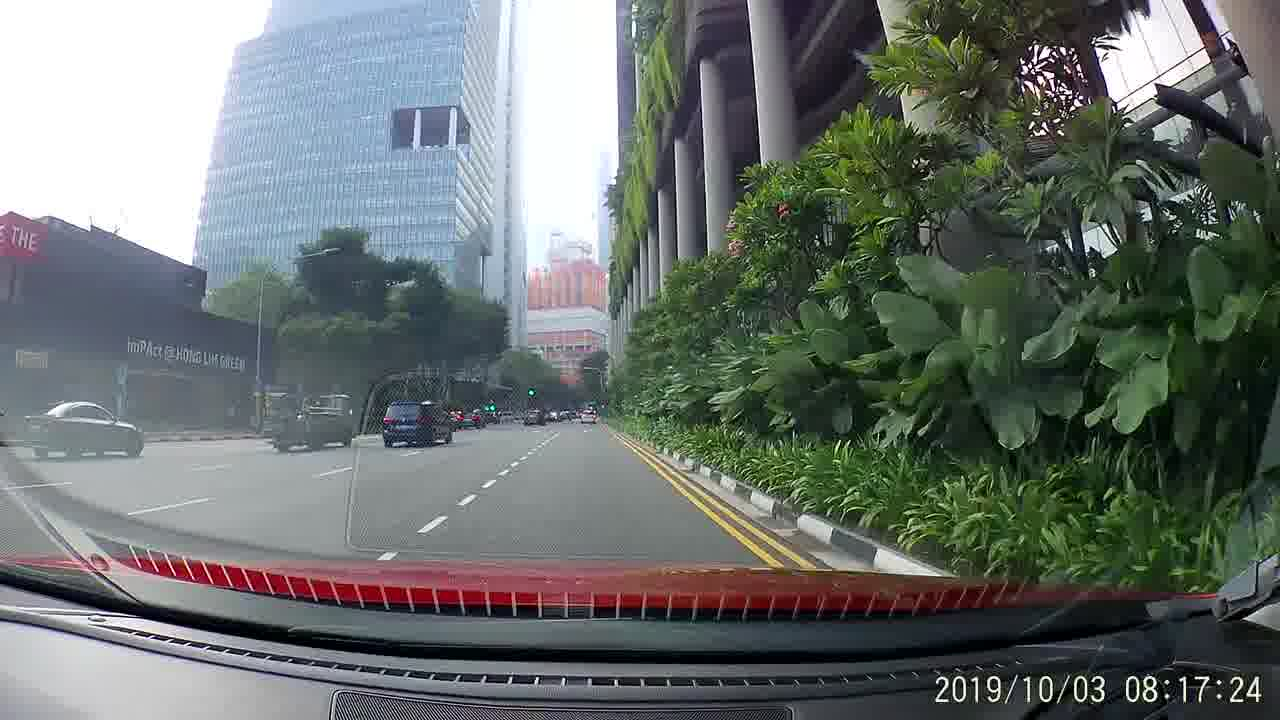car: (18, 397, 146, 464), (377, 398, 453, 448), (520, 405, 547, 427), (455, 409, 483, 428), (578, 406, 598, 427)
